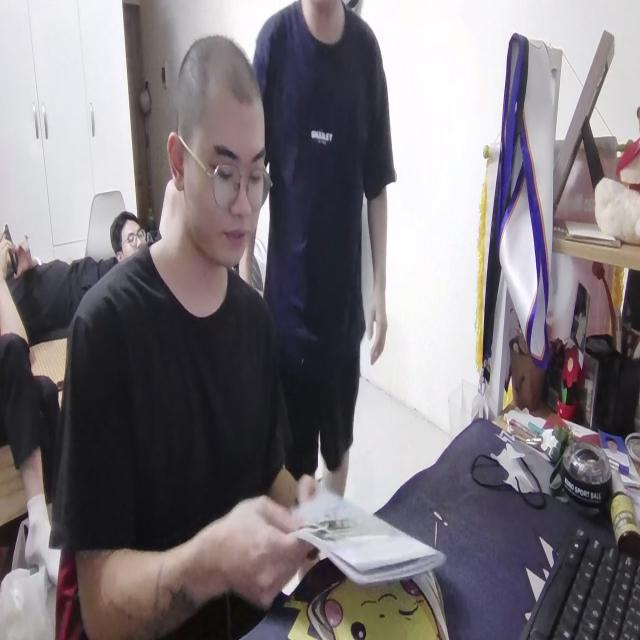book: (291, 480, 444, 591)
extra_person: (250, 0, 392, 498), (102, 204, 166, 254)
student: (56, 33, 322, 636)
